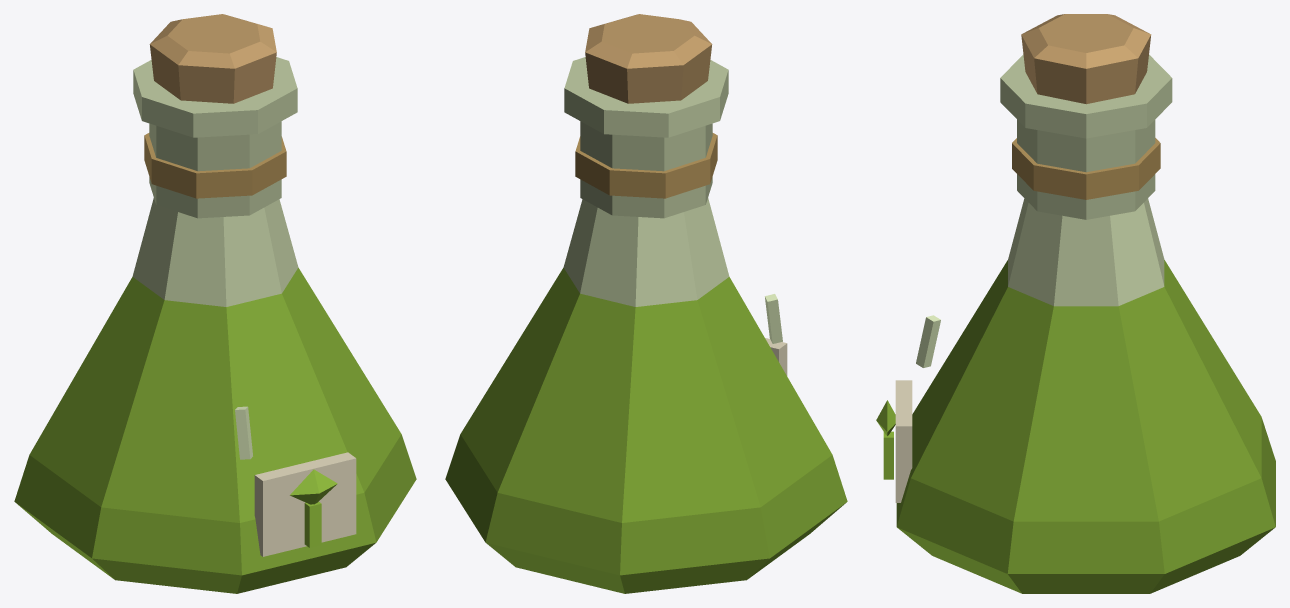
The model's file is item_potion_leaping.glb.
The picture shows the model from 3 angles, left to right: view 1: azimuth 30°, elevation 25°; view 2: azimuth 150°, elevation 25°; view 3: azimuth 270°, elevation 25°; orthographic projection.
Visible parts, largest first — view 1: item_potion_leaping; view 2: item_potion_leaping; view 3: item_potion_leaping.
Part boxes in pixels (x1=…): item_potion_leaping: x1=14, y1=14, x2=416, y2=593; item_potion_leaping: x1=445, y1=14, x2=847, y2=593; item_potion_leaping: x1=876, y1=14, x2=1275, y2=593.
Size of the model in its own units: 0.2956 by 0.427 by 0.3116.
